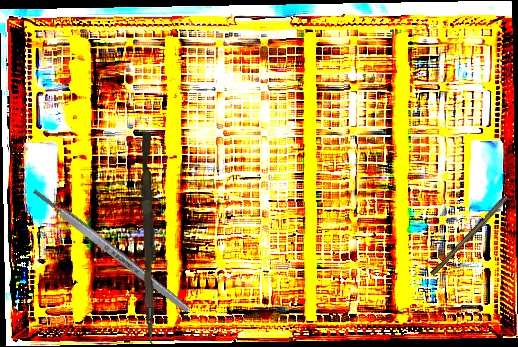Pusher: (136, 131, 162, 345)
Scalpel Handle: (31, 186, 192, 315), (430, 193, 510, 279)
